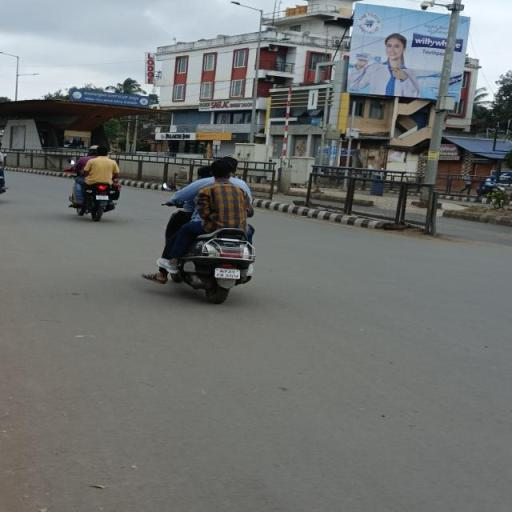bike: (152, 152, 280, 306)
numberplate: (216, 267, 243, 282)
withouthelmet: (212, 160, 232, 180)
